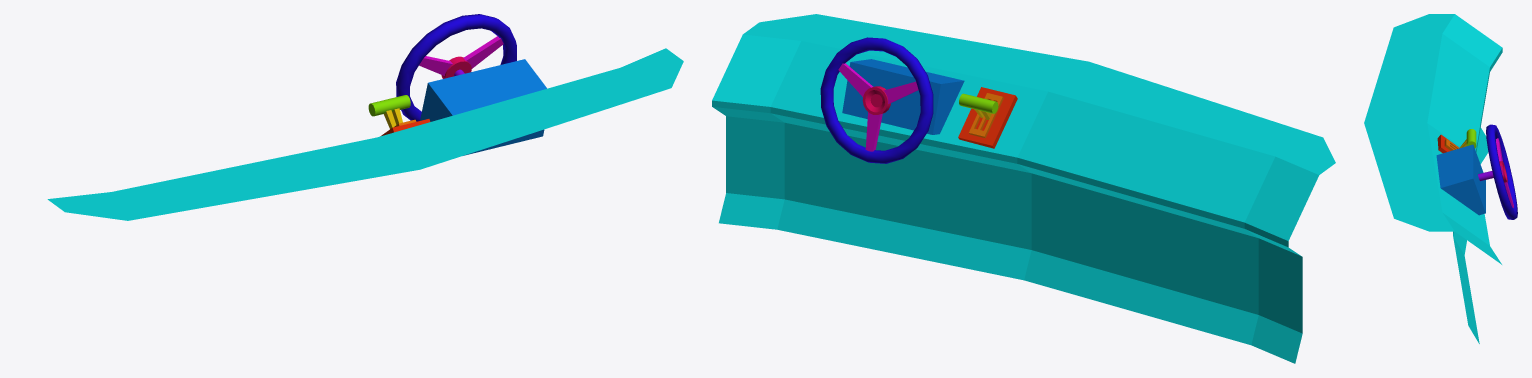
The model's file is steering_wheel.glb.
3 views of the same model, side by side, from view 1: azimuth 30°, elevation 25°; view 2: azimuth 150°, elevation 25°; view 3: azimuth 270°, elevation 25° (orthographic). The views are drawn at different scales.
Parts seen in each view (by area): view 1: Cube.003, Cube.004, Circle, Cube, Cylinder.002; view 2: Cube.003, Circle, Cube.004, Cube.006, Cube, Cylinder.001, Cube.008, Cylinder.002; view 3: Cube.003, Cube.004, Circle, Cube, Cylinder.002, Cube.006.
Part boxes in pixels (x1=…): Cube.003: x1=47, y1=48, x2=683, y2=220; Cube.004: x1=420, y1=59, x2=546, y2=155; Circle: x1=396, y1=14, x2=516, y2=121; Cube: x1=419, y1=36, x2=503, y2=75; Cylinder.002: x1=368, y1=95, x2=410, y2=116; Cube.003: x1=712, y1=14, x2=1335, y2=363; Circle: x1=820, y1=37, x2=933, y2=163; Cube.004: x1=842, y1=59, x2=964, y2=134; Cube.006: x1=958, y1=87, x2=1017, y2=148; Cube: x1=838, y1=63, x2=918, y2=151; Cylinder.001: x1=862, y1=86, x2=890, y2=114; Cube.008: x1=969, y1=93, x2=1003, y2=138; Cylinder.002: x1=959, y1=93, x2=998, y2=113; Cube.003: x1=1364, y1=14, x2=1502, y2=343; Cube.004: x1=1436, y1=144, x2=1485, y2=215; Circle: x1=1486, y1=124, x2=1517, y2=219; Cube: x1=1496, y1=138, x2=1513, y2=207; Cylinder.002: x1=1466, y1=129, x2=1476, y2=148; Cube.006: x1=1437, y1=134, x2=1459, y2=153.
Size of the model in its own units: 4.95 by 1.84 by 1.48.
